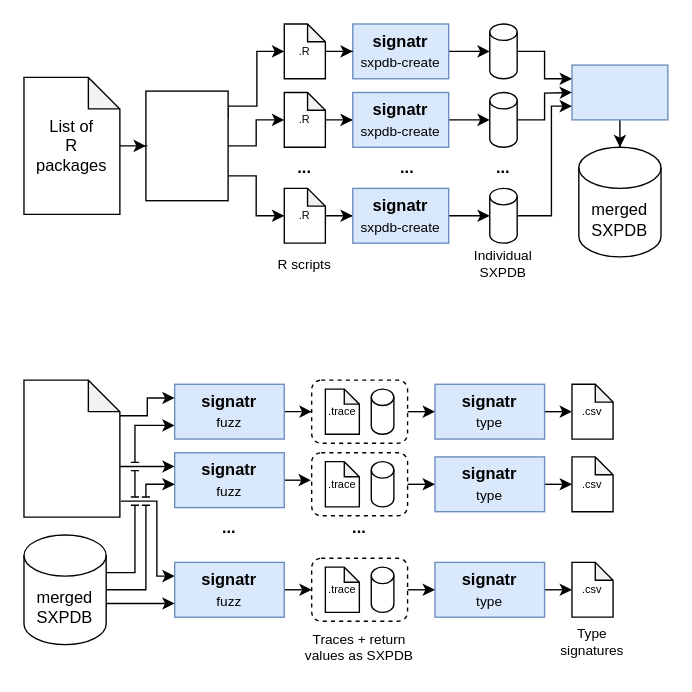
This 692x692 diagram has some shape labels left out. Here are the shapes that lost their labels. From the top down, the centre of each, then its label:
pixel 619 92: signatr sxpdb-merge
pixel 186 145: Extract runnable code
pixel 71 448: List of R functions
